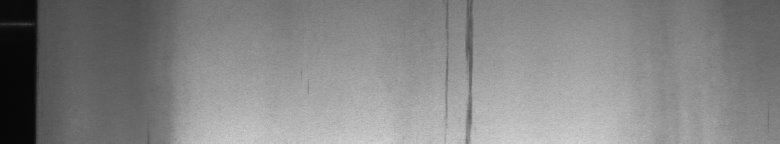hd: (441, 4, 479, 136)
